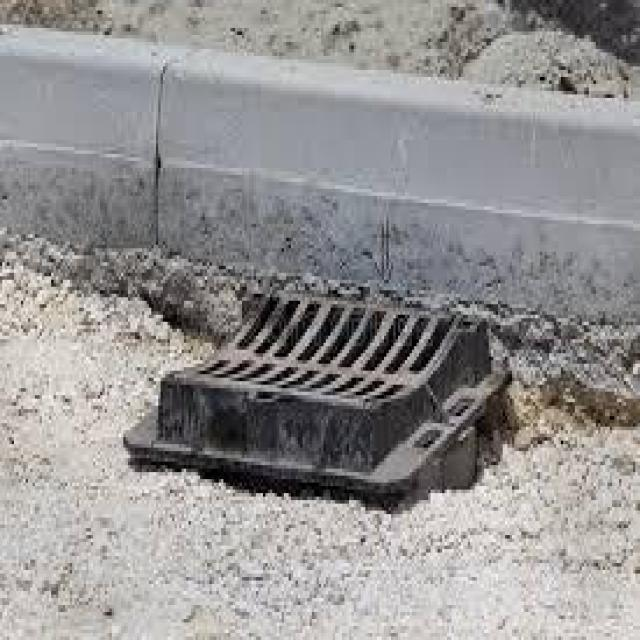bump: (7, 12, 640, 361)
